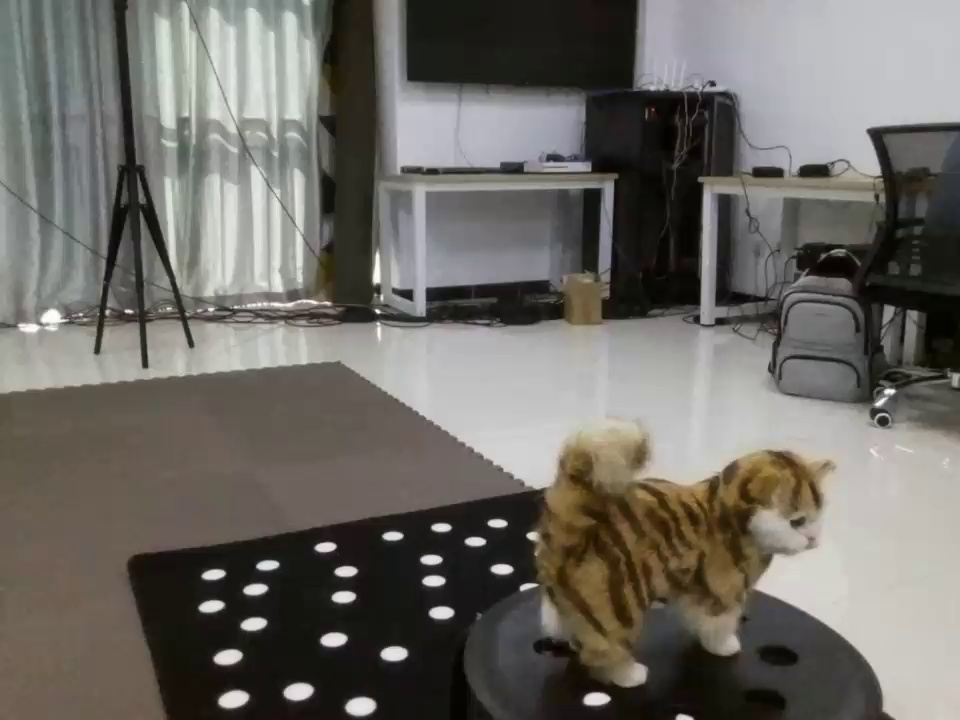cat: (508, 413, 852, 688)
